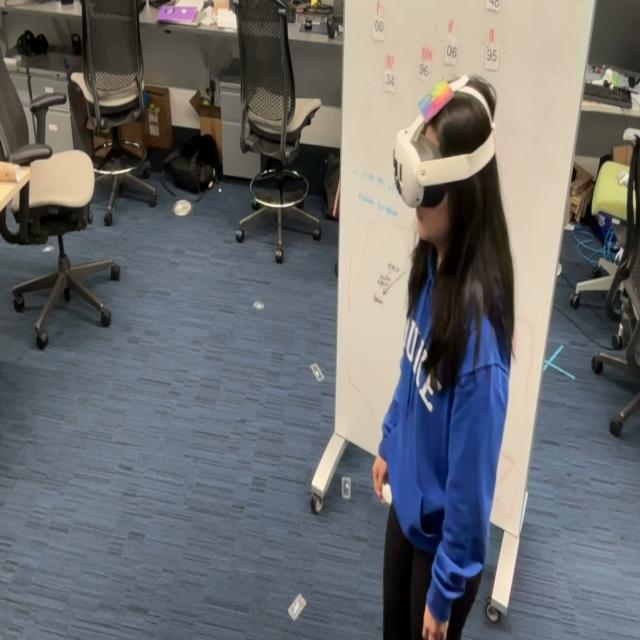Headset: (392, 74, 497, 209)
Marker: (415, 78, 454, 120)
